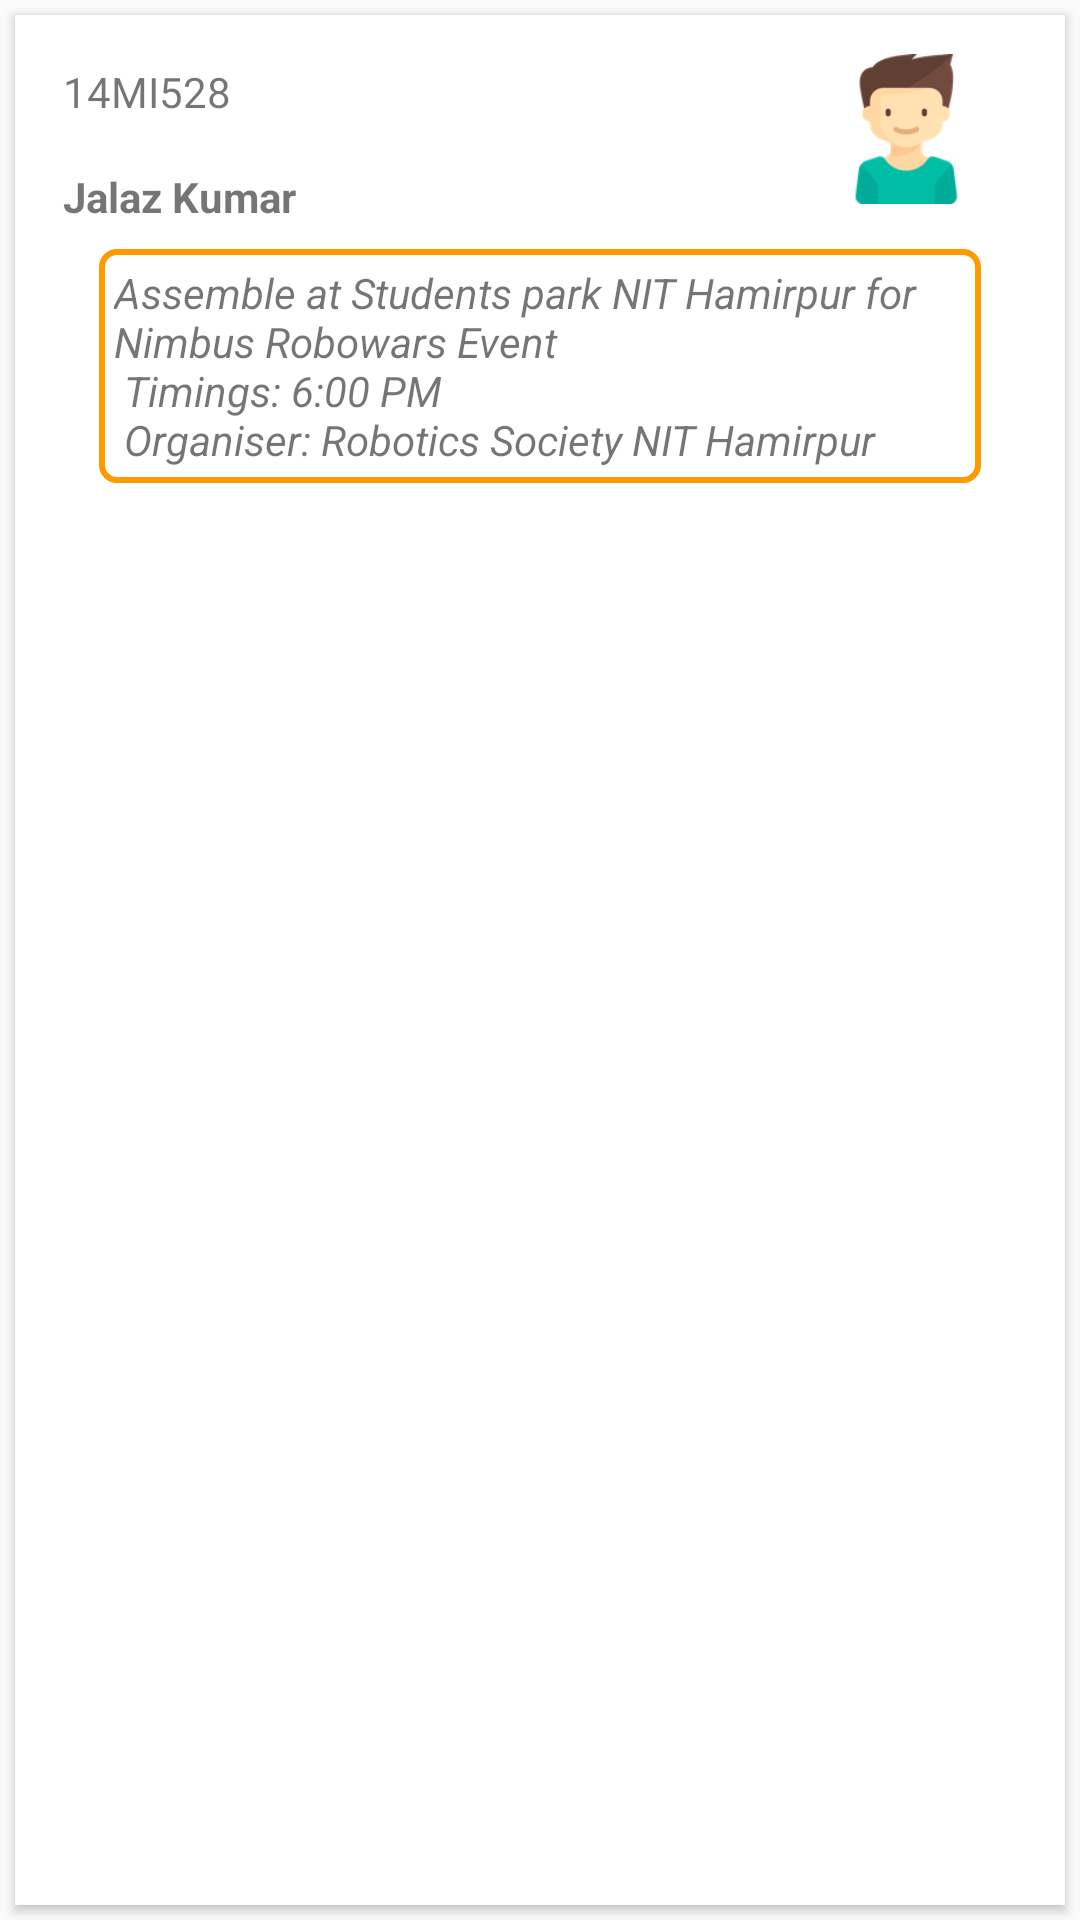

Point at icon controls on the screen. Image size 1080×1920, points as point (x, y).
kid: point (906, 129)
